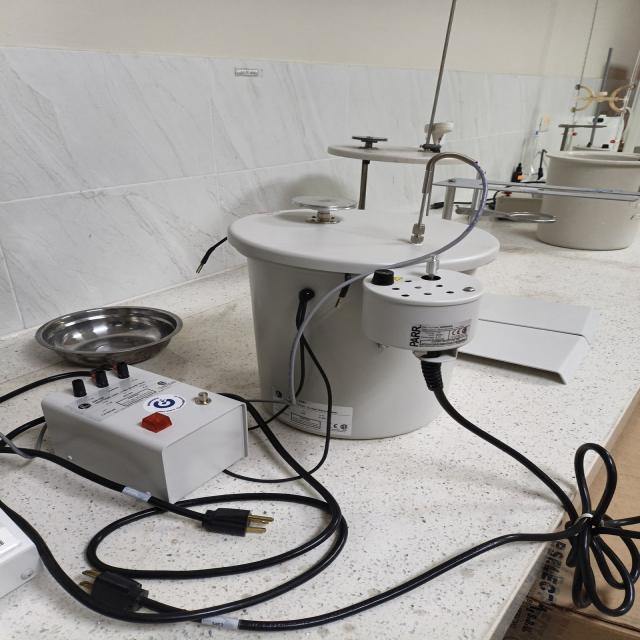Bomba Calorimetrica de Oxigeno: (197, 196, 497, 438)
